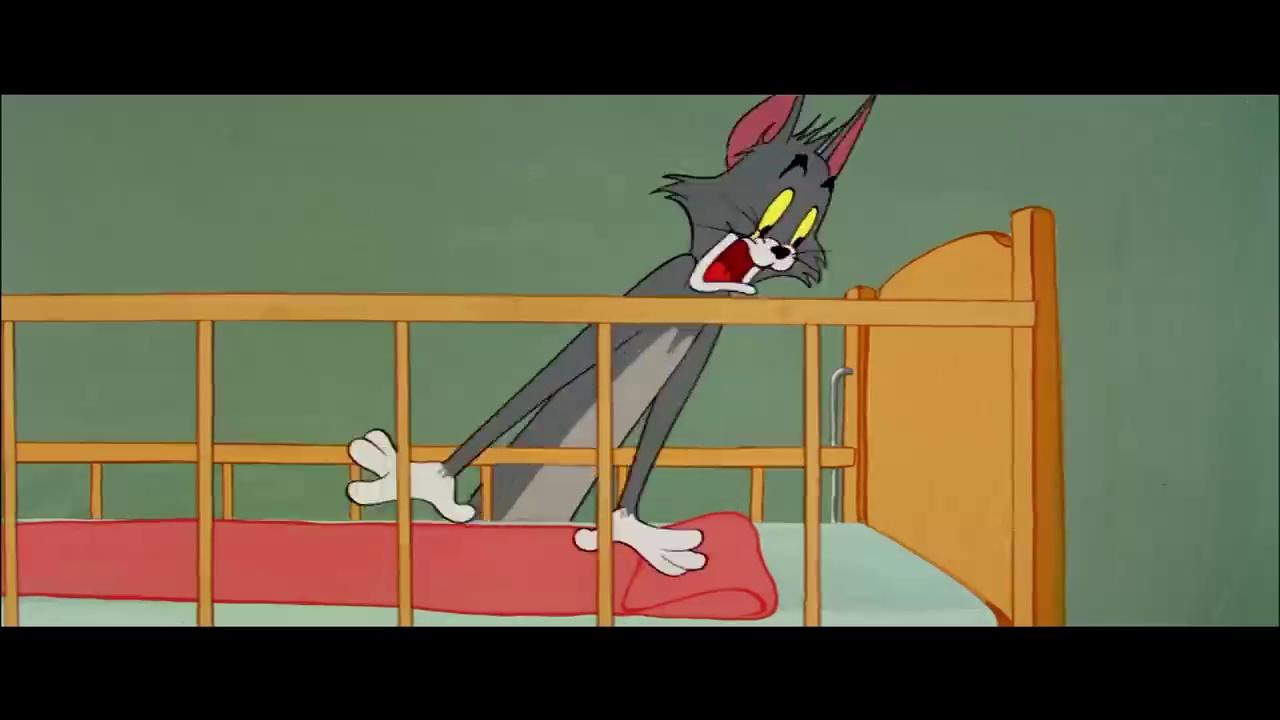Tom: (347, 94, 883, 580)
